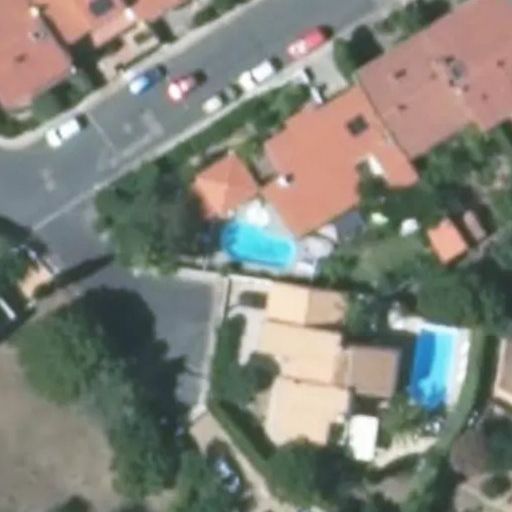pool: (403, 325, 457, 413), (212, 217, 299, 271)
